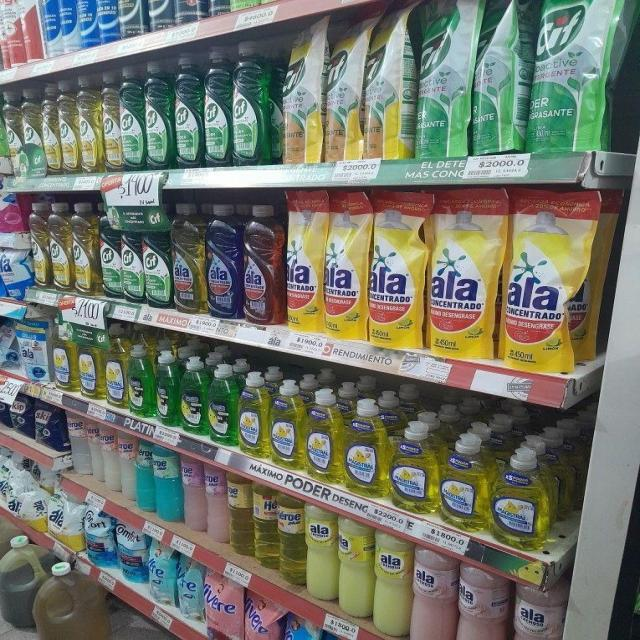ala_conc_amarillo: (172, 201, 205, 315)
ala_conc_azul: (206, 203, 242, 319)
ala_conc_rojo: (242, 203, 284, 325)
ala_crem_amarillo: (374, 530, 411, 637), (338, 514, 373, 618), (306, 502, 336, 600)
ala_crem_rosado: (457, 560, 510, 640), (412, 544, 456, 640)
ala_sachet_amarillo: (504, 186, 598, 372), (428, 188, 501, 360), (369, 189, 425, 349), (325, 190, 368, 339), (285, 190, 323, 333)
cif_conc_bot_amarilla: (73, 202, 97, 296), (80, 74, 102, 173), (49, 201, 71, 292), (102, 69, 121, 172), (22, 87, 42, 176), (60, 78, 78, 174), (31, 201, 48, 290), (43, 82, 59, 174), (6, 90, 22, 177)
cif_conc_botella_verde: (232, 41, 272, 166), (203, 46, 231, 166), (174, 53, 202, 168), (145, 60, 173, 170), (144, 207, 171, 308), (120, 64, 144, 170), (99, 202, 121, 298), (121, 206, 143, 302)
cif_conc_sachet_amarillo: (280, 27, 323, 164)
cif_conc_sachet_verde: (529, 0, 609, 154), (472, 0, 525, 156)
heroe: (278, 491, 306, 587), (154, 444, 182, 522), (254, 480, 278, 570), (228, 470, 253, 556), (205, 462, 228, 544), (136, 437, 154, 514), (118, 428, 136, 499), (101, 422, 118, 490)
magistral_con_amarillo: (492, 446, 550, 550), (440, 433, 489, 531), (390, 422, 437, 514), (345, 398, 387, 497), (306, 388, 342, 482), (270, 379, 305, 468), (238, 371, 270, 457), (106, 324, 128, 409), (53, 322, 78, 392), (79, 337, 104, 400)
